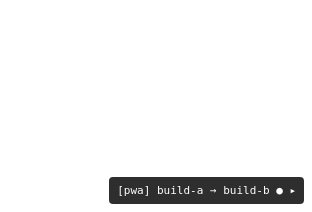
Test: PwaUpdateDebugPanel › renders lastRemoteBuildId when provided
This screenshot has width=312, height=212.
Click the button: (207, 190) [117,183,296,198]
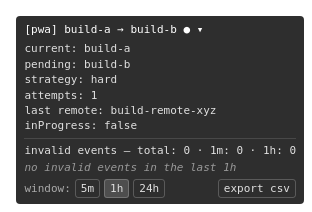
Expected: the text "last remote: build-remote-xyz" is shown, [24,104,216,117]
